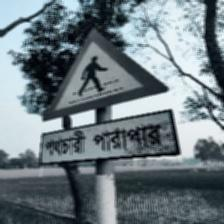Pedestrian-crossing: (39, 26, 177, 164)
